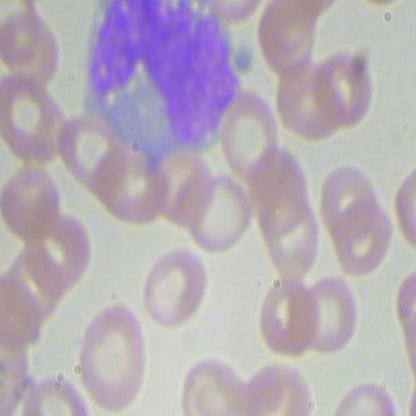RBC: (76, 299, 150, 412), (294, 272, 368, 359), (140, 242, 214, 328), (250, 275, 324, 361), (244, 146, 314, 236), (328, 192, 395, 282), (0, 155, 62, 241), (186, 171, 248, 256), (0, 1, 62, 85), (317, 155, 382, 235), (310, 50, 375, 129), (277, 61, 342, 140)
WBC: (80, 1, 235, 170)
